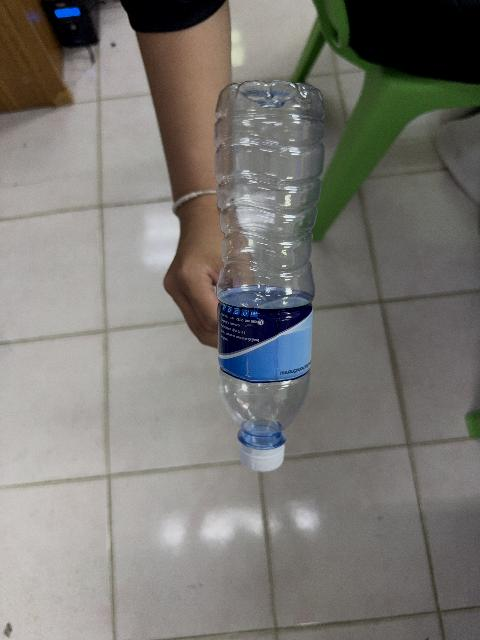bottle: (216, 82, 324, 471)
